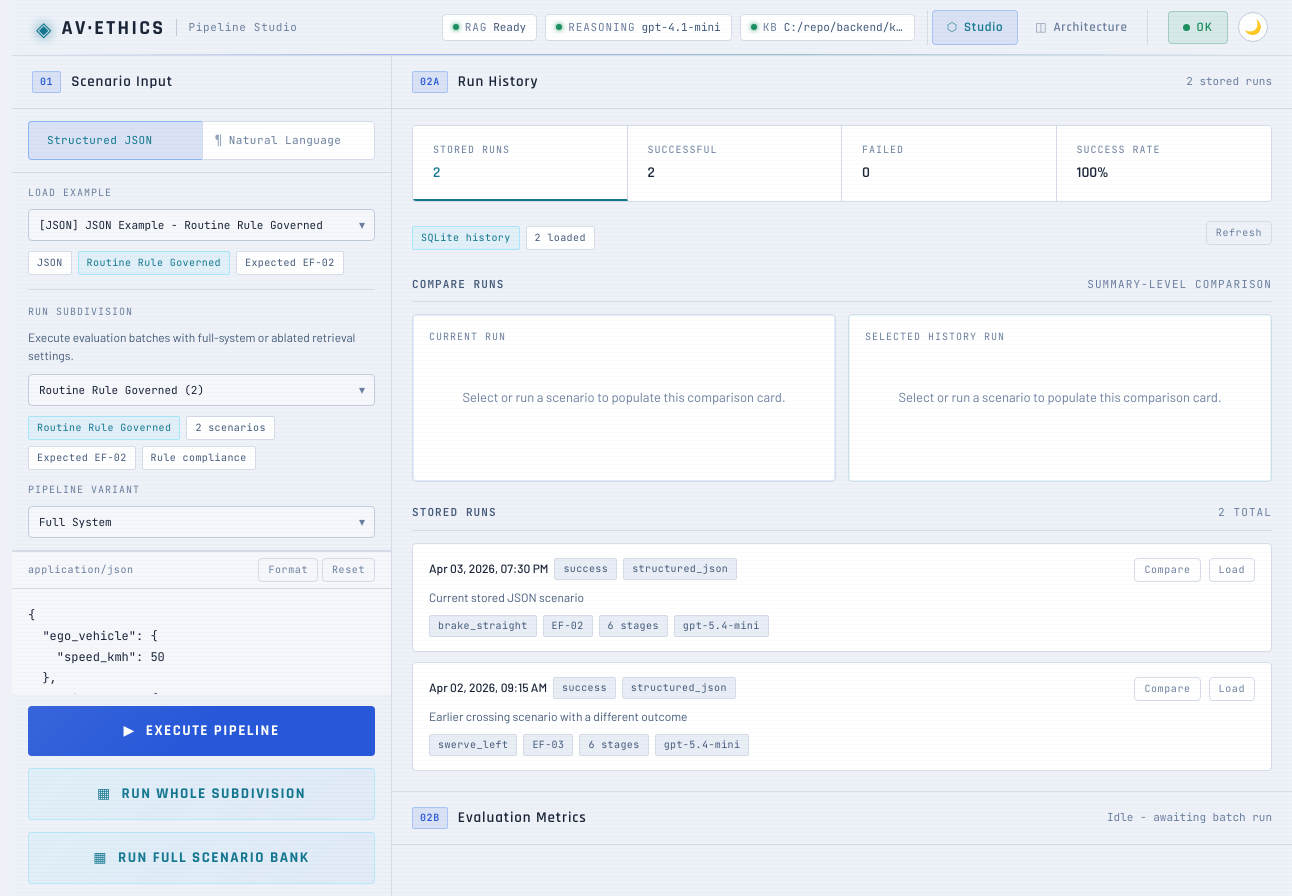
Test case: App › renders subdivision metadata and the framework graph after a batch run
The width and height of the screenshot is (1292, 896).
Expected: the text "Routine Rule Governed" is shown 2 times, [78, 251, 230, 275]; [28, 416, 180, 440]
Click the button with aria-label "Run Subdivision".
click(202, 794)  # box [28, 768, 375, 820]
(page scrolled)
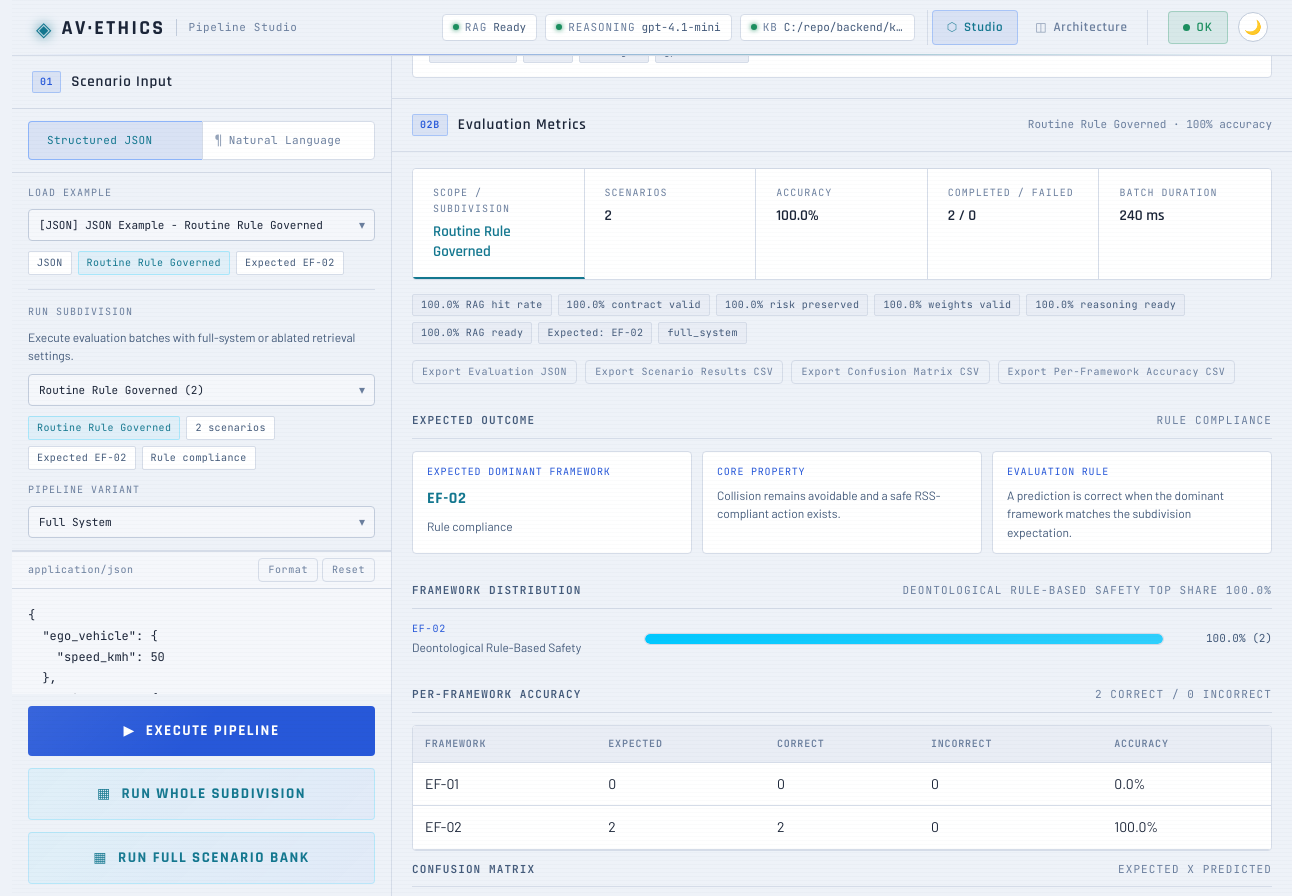
Expected: the element with test id "framework-graph" is shown, [412, 621, 1272, 656]
Expected: the text "100.0% (2)" is shown, [1206, 631, 1272, 645]
Expected: the text "100.0% RAG hit rate" is shown, [412, 294, 552, 316]
